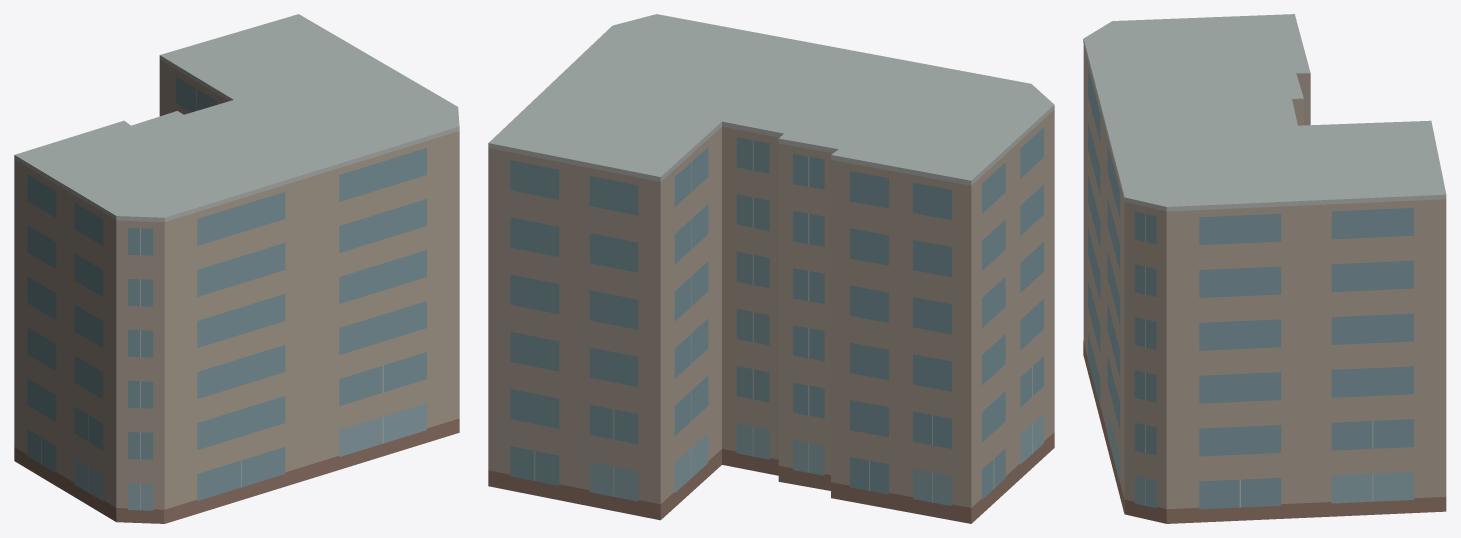
Rendered from survey-upis-32931191.glb.
The picture shows the model from 3 angles, left to right: view 1: azimuth 30°, elevation 25°; view 2: azimuth 150°, elevation 25°; view 3: azimuth 270°, elevation 25°; orthographic projection. The views are drawn at different scales.
Visible parts, largest first — view 1: survey-upis-32931191.tmp; view 2: survey-upis-32931191.tmp; view 3: survey-upis-32931191.tmp.
Part boxes in pixels (x1,y1,x2,y2): survey-upis-32931191.tmp: (14,14,459,523); survey-upis-32931191.tmp: (488,14,1054,523); survey-upis-32931191.tmp: (1083,14,1446,523).
Bounding box in the file's own units: 22.14 × 16.95 × 17.6.
